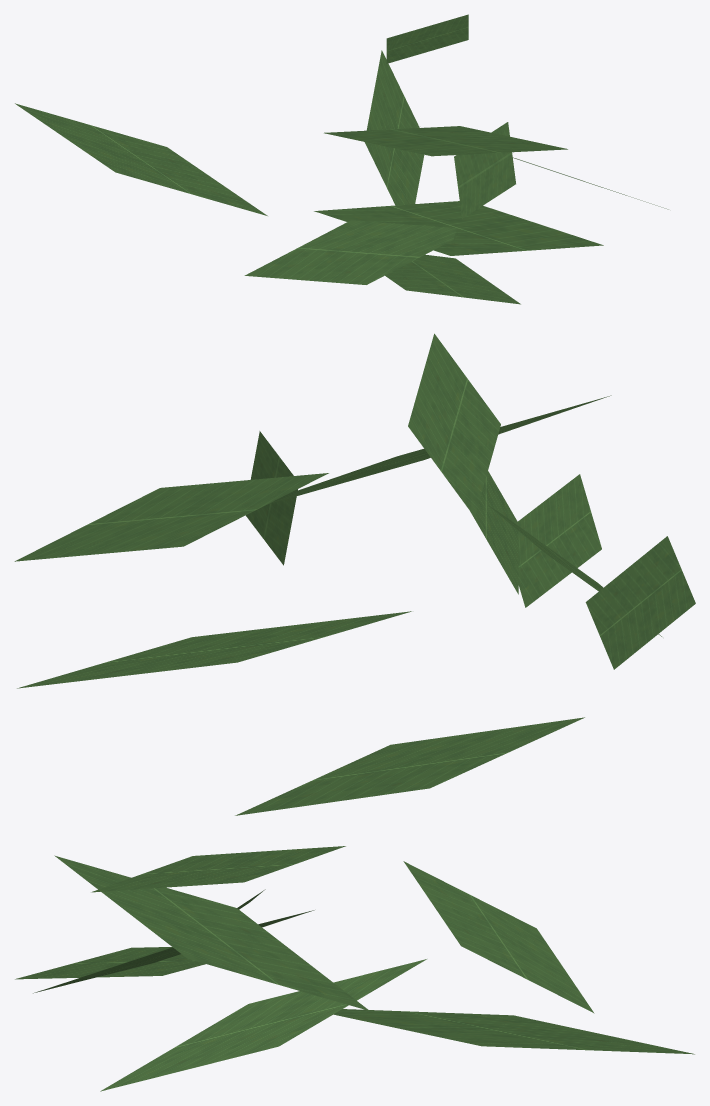
Rendered from en-008_palm_frond_ground_clutter__medium.obj.
3 renders of one model, top to bottom at view 1: azimuth 30°, elevation 25°; view 2: azimuth 150°, elevation 25°; view 3: azimuth 270°, elevation 25°, orthographic. The views are drawn at different scales.
Visible parts, largest first — view 1: en-008_palm_frond_ground_clutter__medium; view 2: en-008_palm_frond_ground_clutter__medium; view 3: en-008_palm_frond_ground_clutter__medium.
Boxes of the visible parts, left/top/right/bottom form: en-008_palm_frond_ground_clutter__medium: left=15, top=14, right=668, bottom=304; en-008_palm_frond_ground_clutter__medium: left=14, top=333, right=695, bottom=688; en-008_palm_frond_ground_clutter__medium: left=15, top=717, right=694, bottom=1091.
Size of the model in its own units: 1.39 by 0.371 by 1.45.
Materials: 1 (1 with a texture image).
